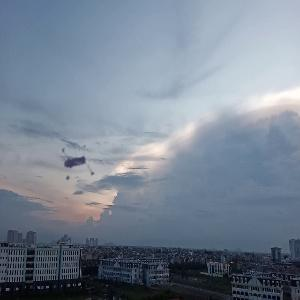drone: (46, 139, 106, 199)
